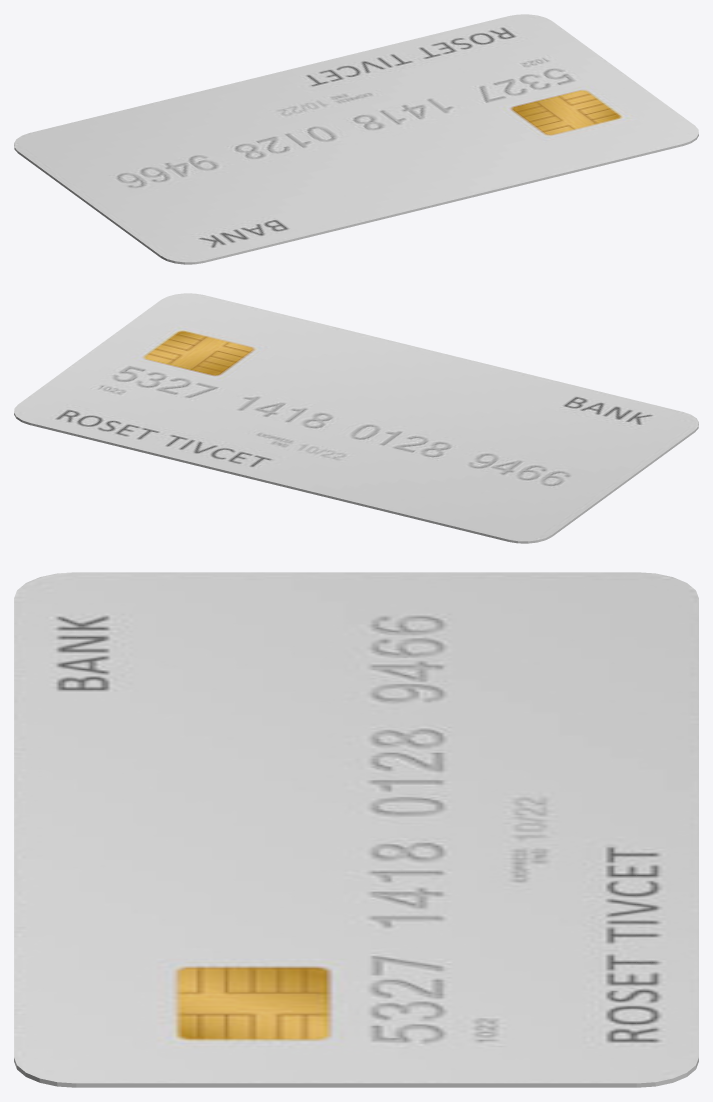
File: credit_card.fbx
The picture shows the model from 3 angles, top to bottom: view 1: azimuth 30°, elevation 25°; view 2: azimuth 150°, elevation 25°; view 3: azimuth 270°, elevation 25°; orthographic projection. The views are drawn at different scales.
Visible parts, largest first — view 1: model_0; view 2: model_0; view 3: model_0.
Part boxes in pixels (<box>): model_0: <box>14,14,698,264</box>; model_0: <box>14,293,698,543</box>; model_0: <box>14,572,698,1087</box>.
Size of the model in its own units: 25.22 by 0.0999 by 14.28.
1 material, 1 textured.
